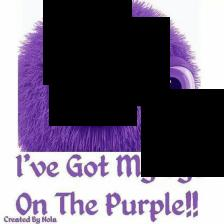purple: (19, 0, 200, 152)
